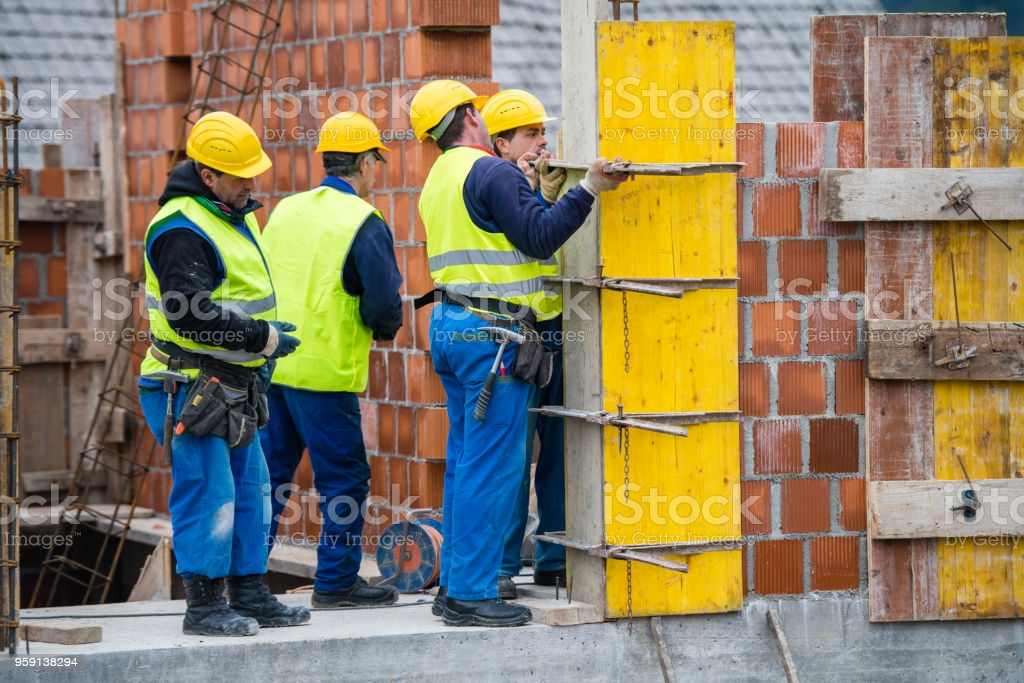With Helmet: (178, 107, 274, 208), (403, 76, 491, 152), (482, 82, 557, 164), (317, 109, 388, 192)
